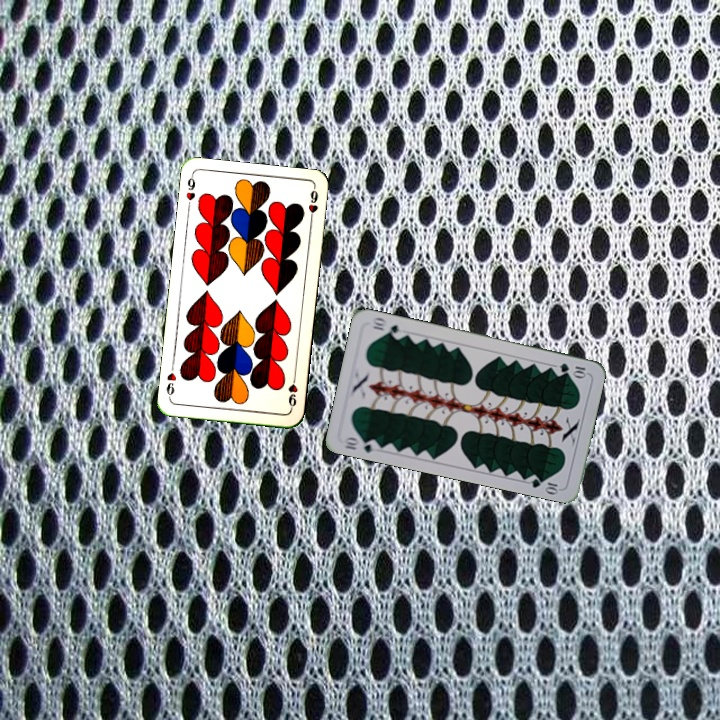G10: (340, 433, 381, 455), (556, 359, 588, 379)
H9: (284, 372, 300, 412), (182, 172, 198, 212)
